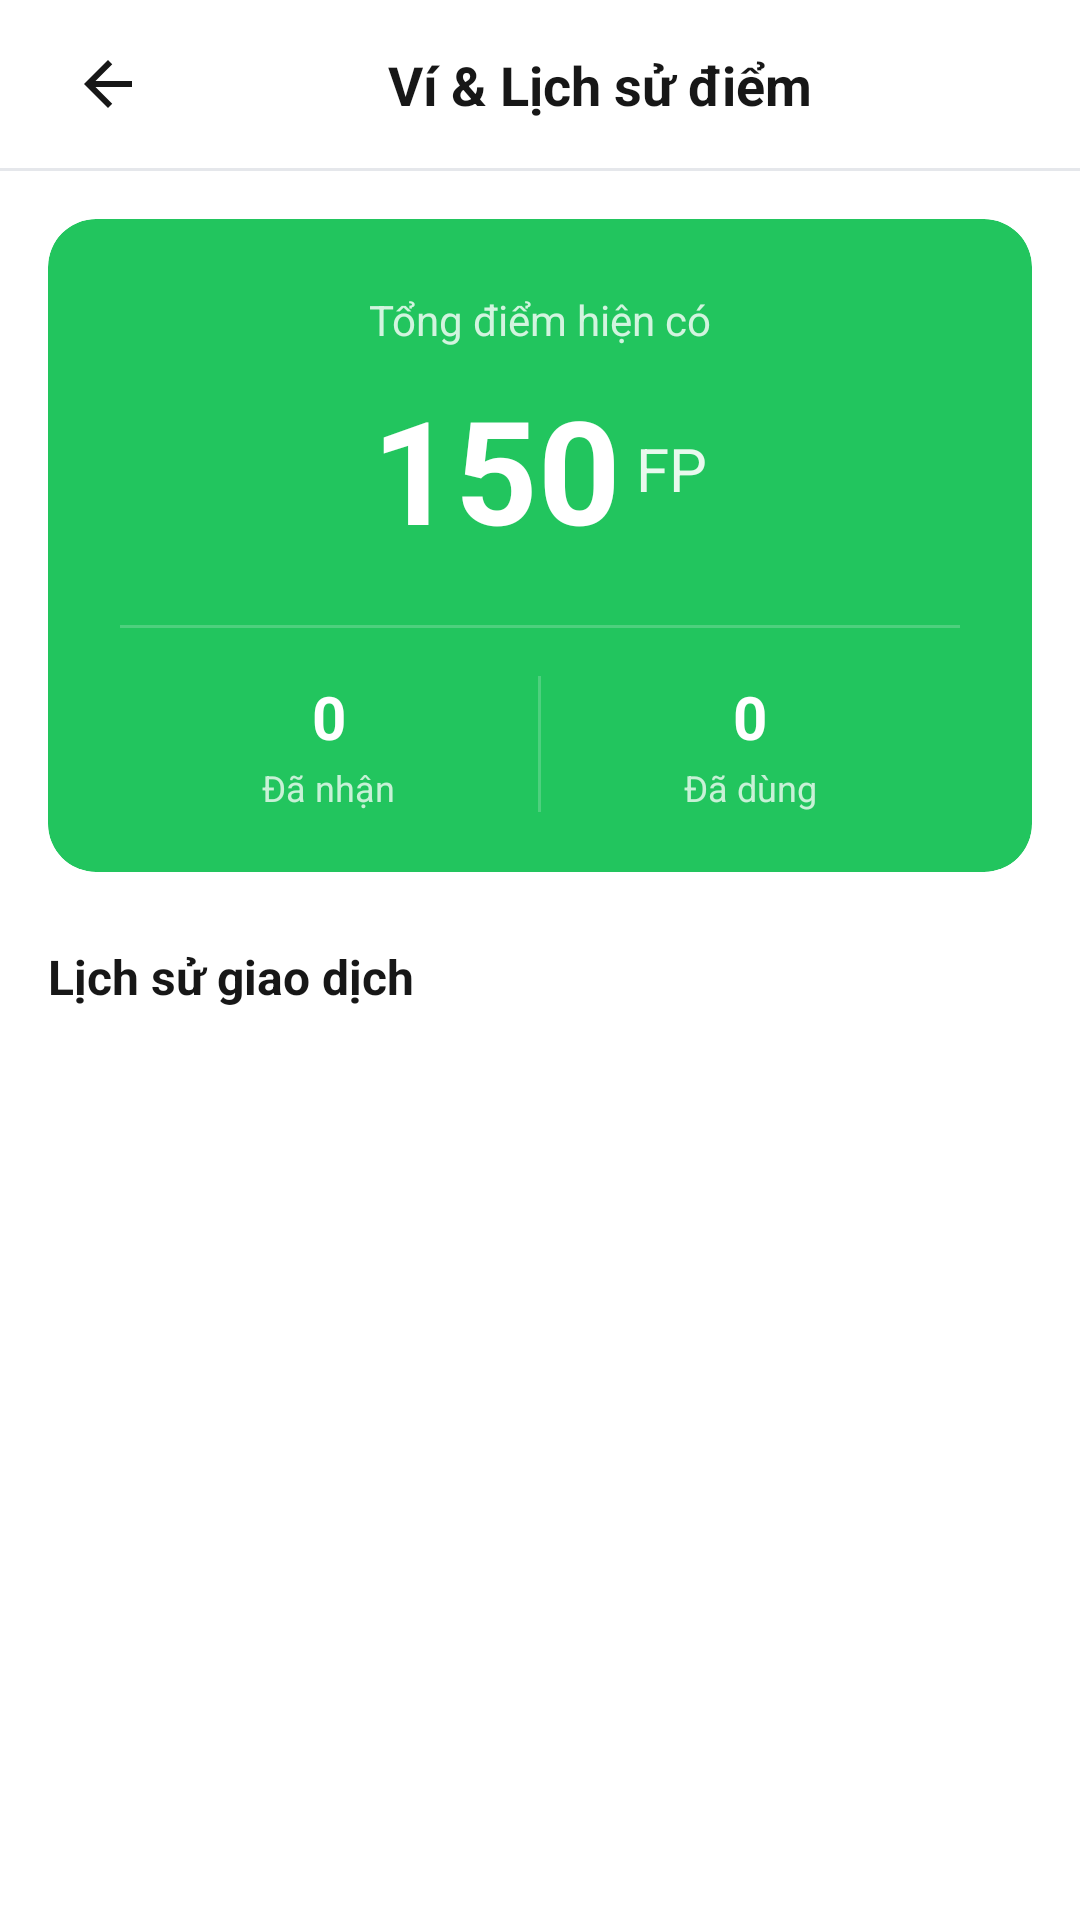

Named icons in this screenshot (1080 x 1920) and their centers, (x=x, y=y):
Back: (x=108, y=84)
